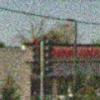traffic lights: (43, 38, 53, 74)
